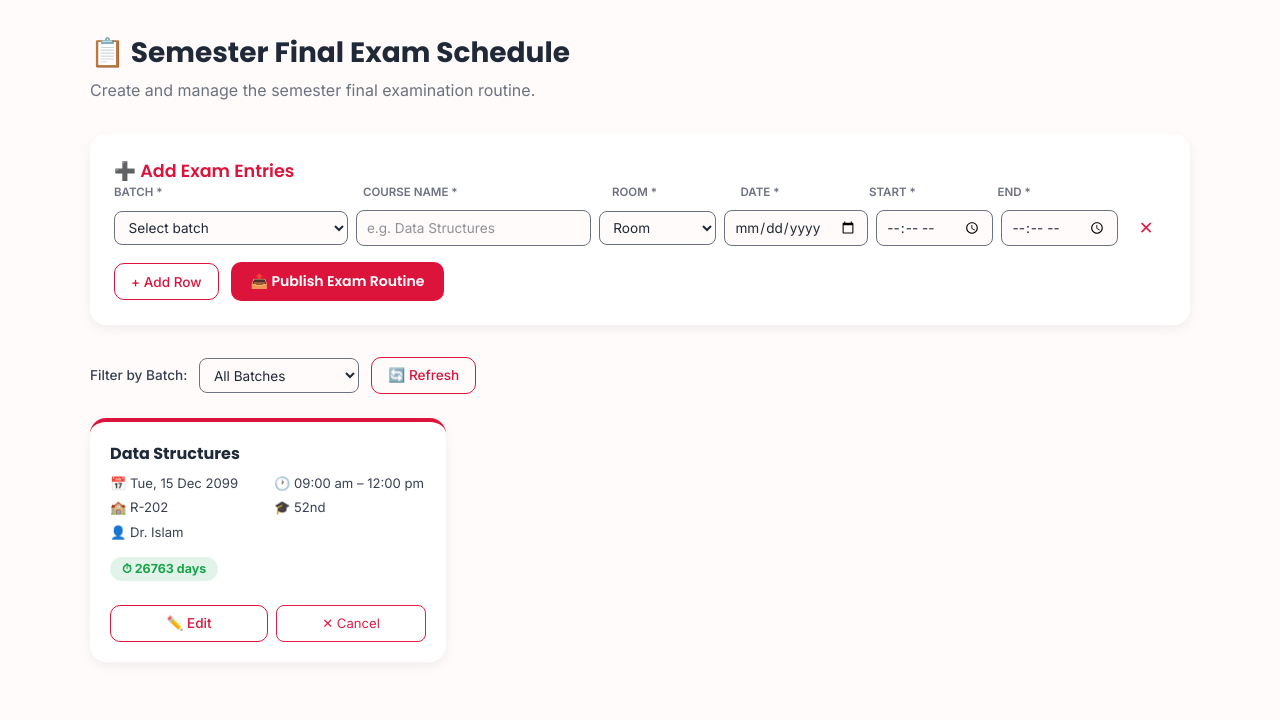
Test: ExamSchedulePage — Admin view › closes edit modal on Discard
Click the button "✏️ Edit": (189, 624) [110,605,268,642]
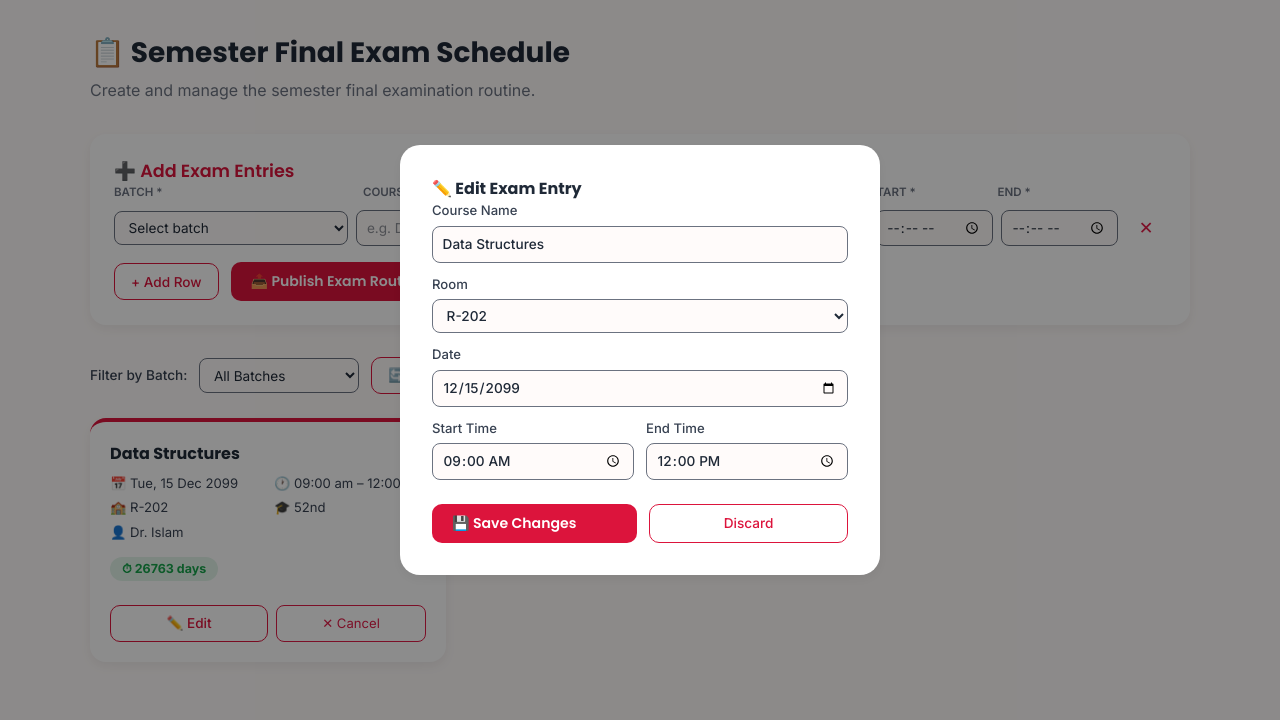
Now the button "Discard" is shown
Click the button "Discard": (748, 523) [649,504,848,543]
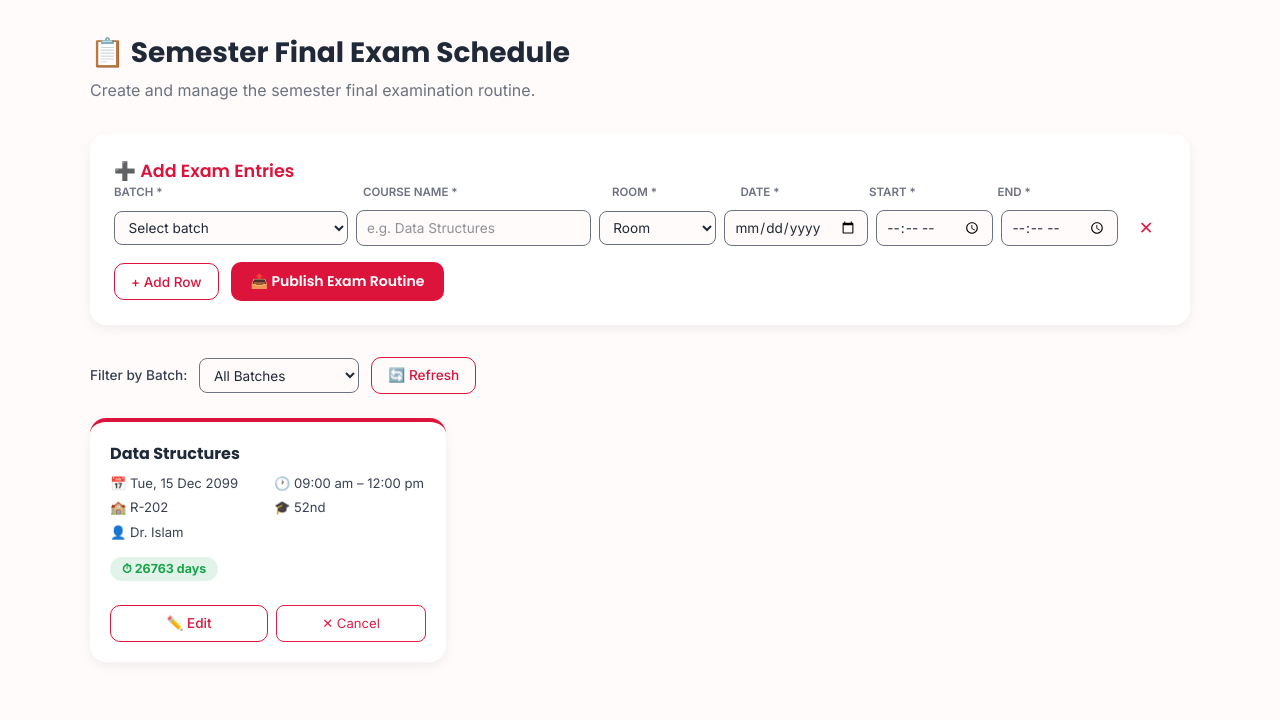
Now the heading "Edit Exam Entry" is gone
